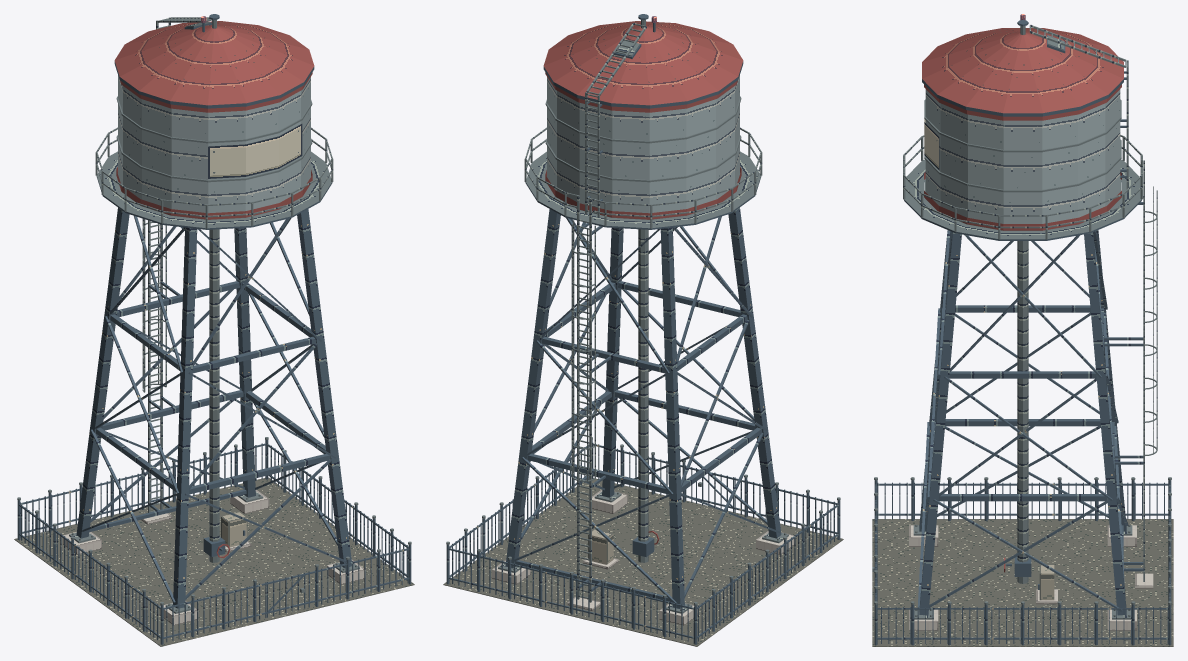
The model's file is water-tower.glb.
3 renders of one model, left to right at view 1: azimuth 30°, elevation 25°; view 2: azimuth 150°, elevation 25°; view 3: azimuth 270°, elevation 25°, orthographic. The views are drawn at different scales.
Parts seen in each view (by area): view 1: structure__detail_frame, lot__ground_gravel, tank__wall_tank_steel, tank__roof_steel, structure__detail_catwalk, leg_1, leg_2, leg_4, ladder__detail_catwalk, sign_name, leg_3, structure__ground_concrete (+5 smaller); view 2: structure__detail_frame, lot__ground_gravel, tank__wall_tank_steel, tank__roof_steel, structure__detail_catwalk, ladder__detail_catwalk, leg_4, leg_3, leg_1, leg_2, structure__ground_concrete, tank__detail_catwalk (+3 smaller); view 3: lot__ground_gravel, structure__detail_frame, tank__wall_tank_steel, tank__roof_steel, structure__detail_catwalk, leg_2, leg_3, ladder__detail_catwalk, tank__detail_catwalk, structure__ground_concrete, tank__detail_frame, leg_4 (+4 smaller).
Boxes of the visible parts, box(x1,y1,x2,y2) form: structure__detail_frame: box(17, 176, 411, 644); lot__ground_gravel: box(14, 477, 414, 646); tank__wall_tank_steel: box(118, 75, 310, 213); tank__roof_steel: box(114, 21, 314, 219); structure__detail_catwalk: box(17, 127, 411, 613); leg_1: box(173, 227, 197, 608); leg_2: box(297, 209, 351, 568); leg_4: box(76, 207, 129, 538); ladder__detail_catwalk: box(142, 17, 211, 512); sign_name: box(208, 124, 302, 178); leg_3: box(234, 227, 255, 497); structure__ground_concrete: box(63, 490, 365, 625); structure__detail_frame: box(446, 176, 840, 644); lot__ground_gravel: box(443, 478, 843, 646); tank__wall_tank_steel: box(547, 75, 739, 213); tank__roof_steel: box(543, 21, 743, 219); structure__detail_catwalk: box(446, 127, 840, 613); ladder__detail_catwalk: box(571, 23, 646, 602); leg_4: box(660, 227, 684, 608); leg_3: box(505, 209, 560, 568); leg_1: box(728, 207, 781, 538); leg_2: box(602, 227, 623, 497); structure__ground_concrete: box(492, 489, 794, 625); tank__detail_catwalk: box(545, 19, 741, 219); lot__ground_gravel: box(872, 519, 1173, 646); structure__detail_frame: box(874, 181, 1171, 645); tank__wall_tank_steel: box(925, 89, 1120, 223); tank__roof_steel: box(922, 28, 1123, 230); structure__detail_catwalk: box(874, 134, 1171, 619); leg_2: box(919, 232, 961, 615); leg_3: box(1084, 232, 1126, 615); ladder__detail_catwalk: box(1029, 25, 1157, 581); tank__detail_catwalk: box(924, 26, 1121, 230); structure__ground_concrete: box(909, 525, 1136, 630); tank__detail_frame: box(922, 20, 1123, 116); leg_4: box(1096, 230, 1126, 531).
Size of what is drawn, in the model's own units: 12.73 by 26.23 by 12.73.
9 materials, 9 textured.
